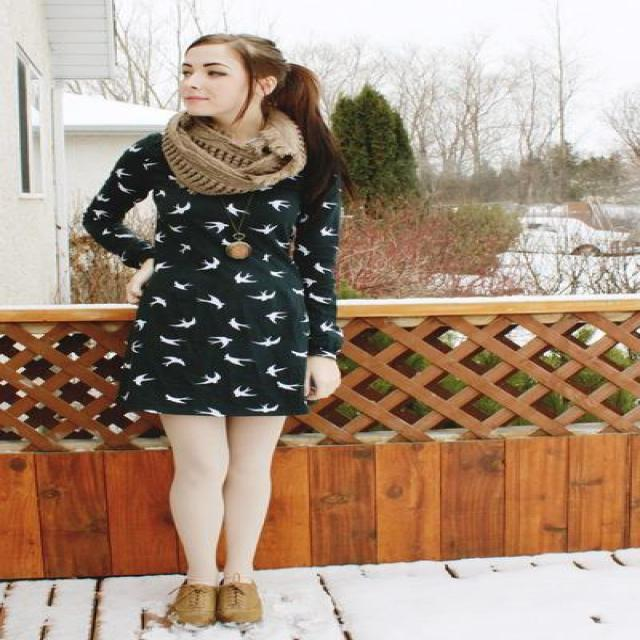dress: (83, 138, 357, 421)
shoe: (141, 579, 261, 626)
